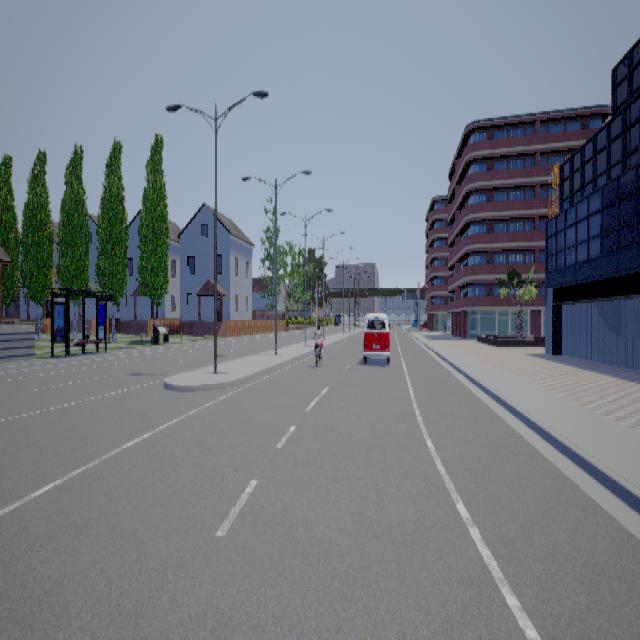bike: (310, 322, 325, 367)
vehicle: (362, 312, 392, 364)
